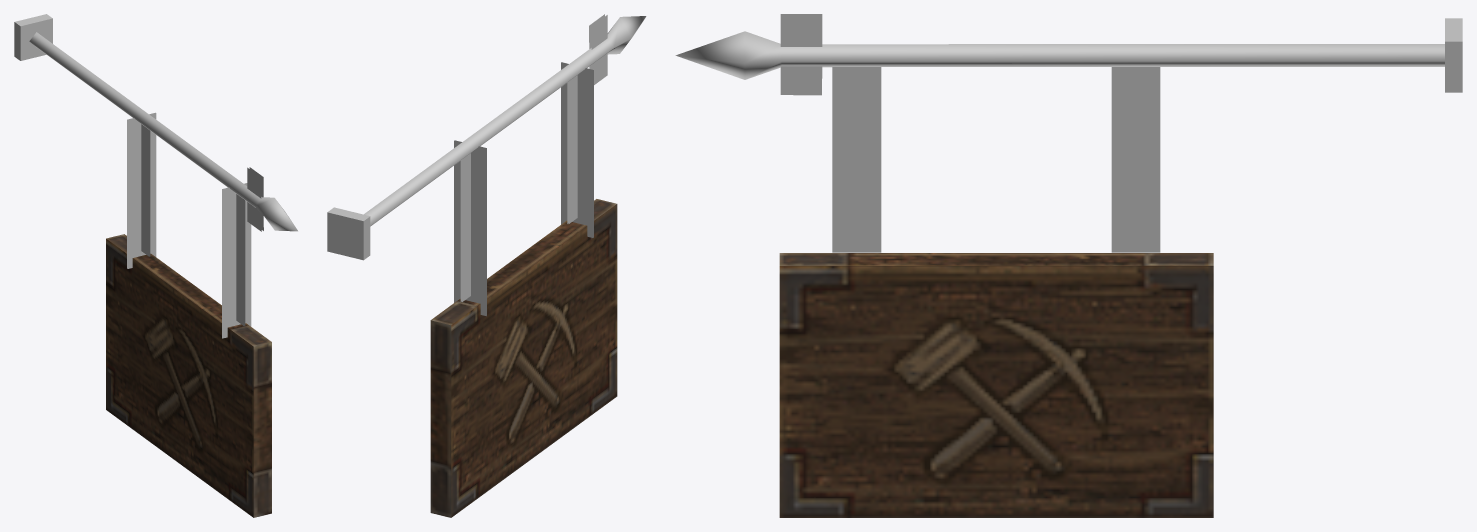
Rendered from Sign02_a.FBX.
3 views of the same model, side by side, from view 1: azimuth 30°, elevation 25°; view 2: azimuth 150°, elevation 25°; view 3: azimuth 270°, elevation 25° (orthographic). The views are drawn at different scales.
Parts seen in each view (by area): view 1: Sign02_a; view 2: Sign02_a; view 3: Sign02_a.
Part boxes in pixels (x1,y1,x2,y2): Sign02_a: (14, 14, 297, 517); Sign02_a: (327, 14, 646, 517); Sign02_a: (675, 14, 1462, 517).
Size of the model in its own units: 10.11 by 101 by 145.
